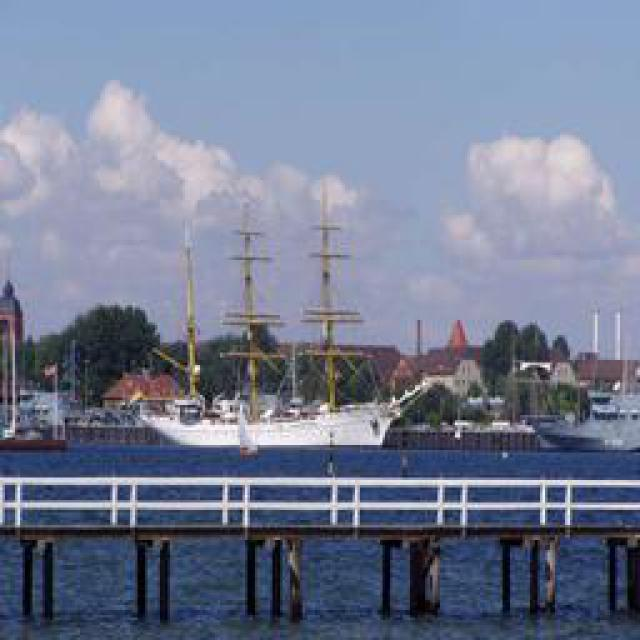Ship: (135, 197, 436, 461), (538, 399, 640, 453)
